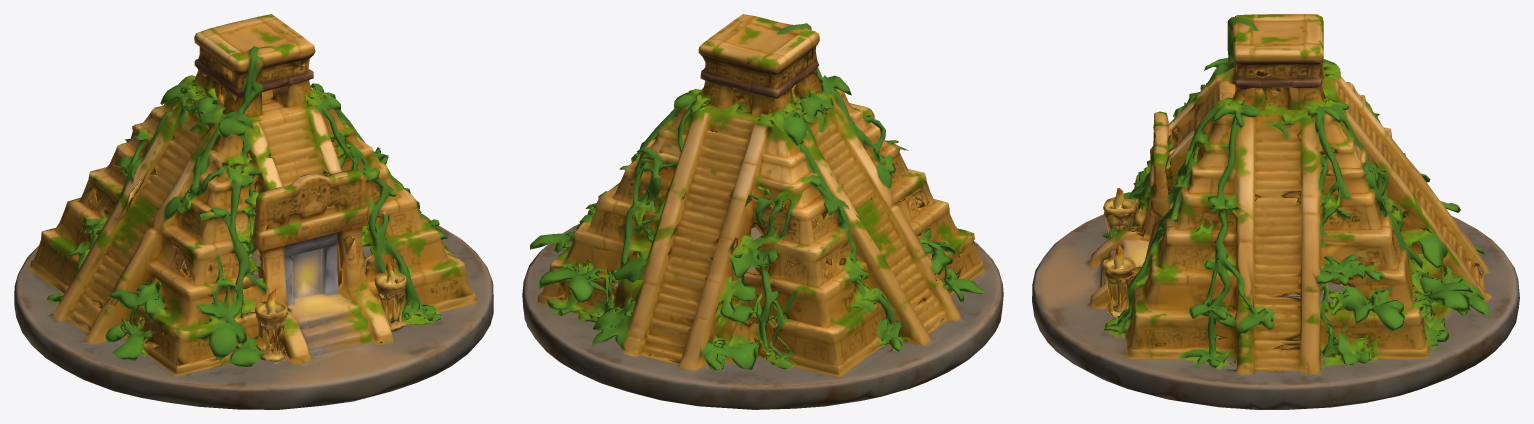
The model's file is env_ancient_pyramid.glb.
3 views of the same model, side by side, from view 1: azimuth 30°, elevation 25°; view 2: azimuth 150°, elevation 25°; view 3: azimuth 270°, elevation 25° (orthographic).
Parts seen in each view (by area): view 1: world; view 2: world; view 3: world.
Boxes of the visible parts, bbox=[...] form: world: bbox=[14, 14, 493, 409]; world: bbox=[522, 14, 1003, 409]; world: bbox=[1032, 14, 1519, 409].
Size of the model in its own units: 0.9987 by 0.6383 by 0.9991.
1 material, 1 textured.
